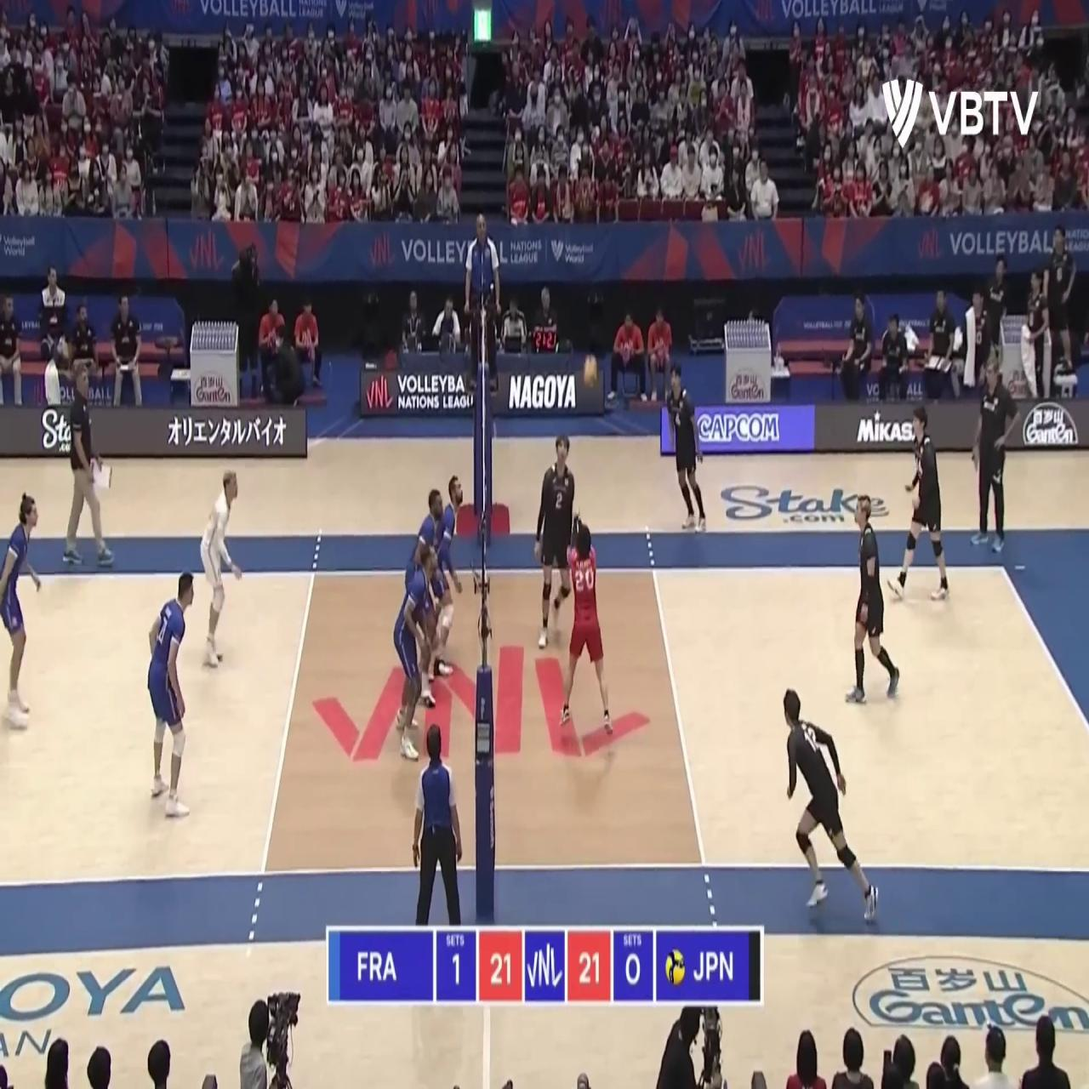ball: (583, 356, 599, 390)
